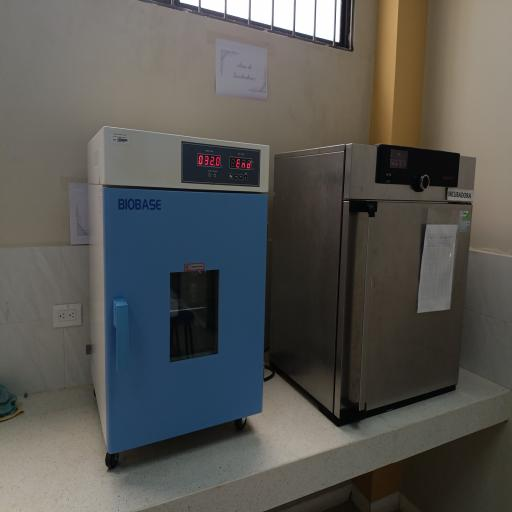Horno_Secado_Biobase: (74, 104, 272, 466)
Incubadora: (275, 128, 475, 439)
